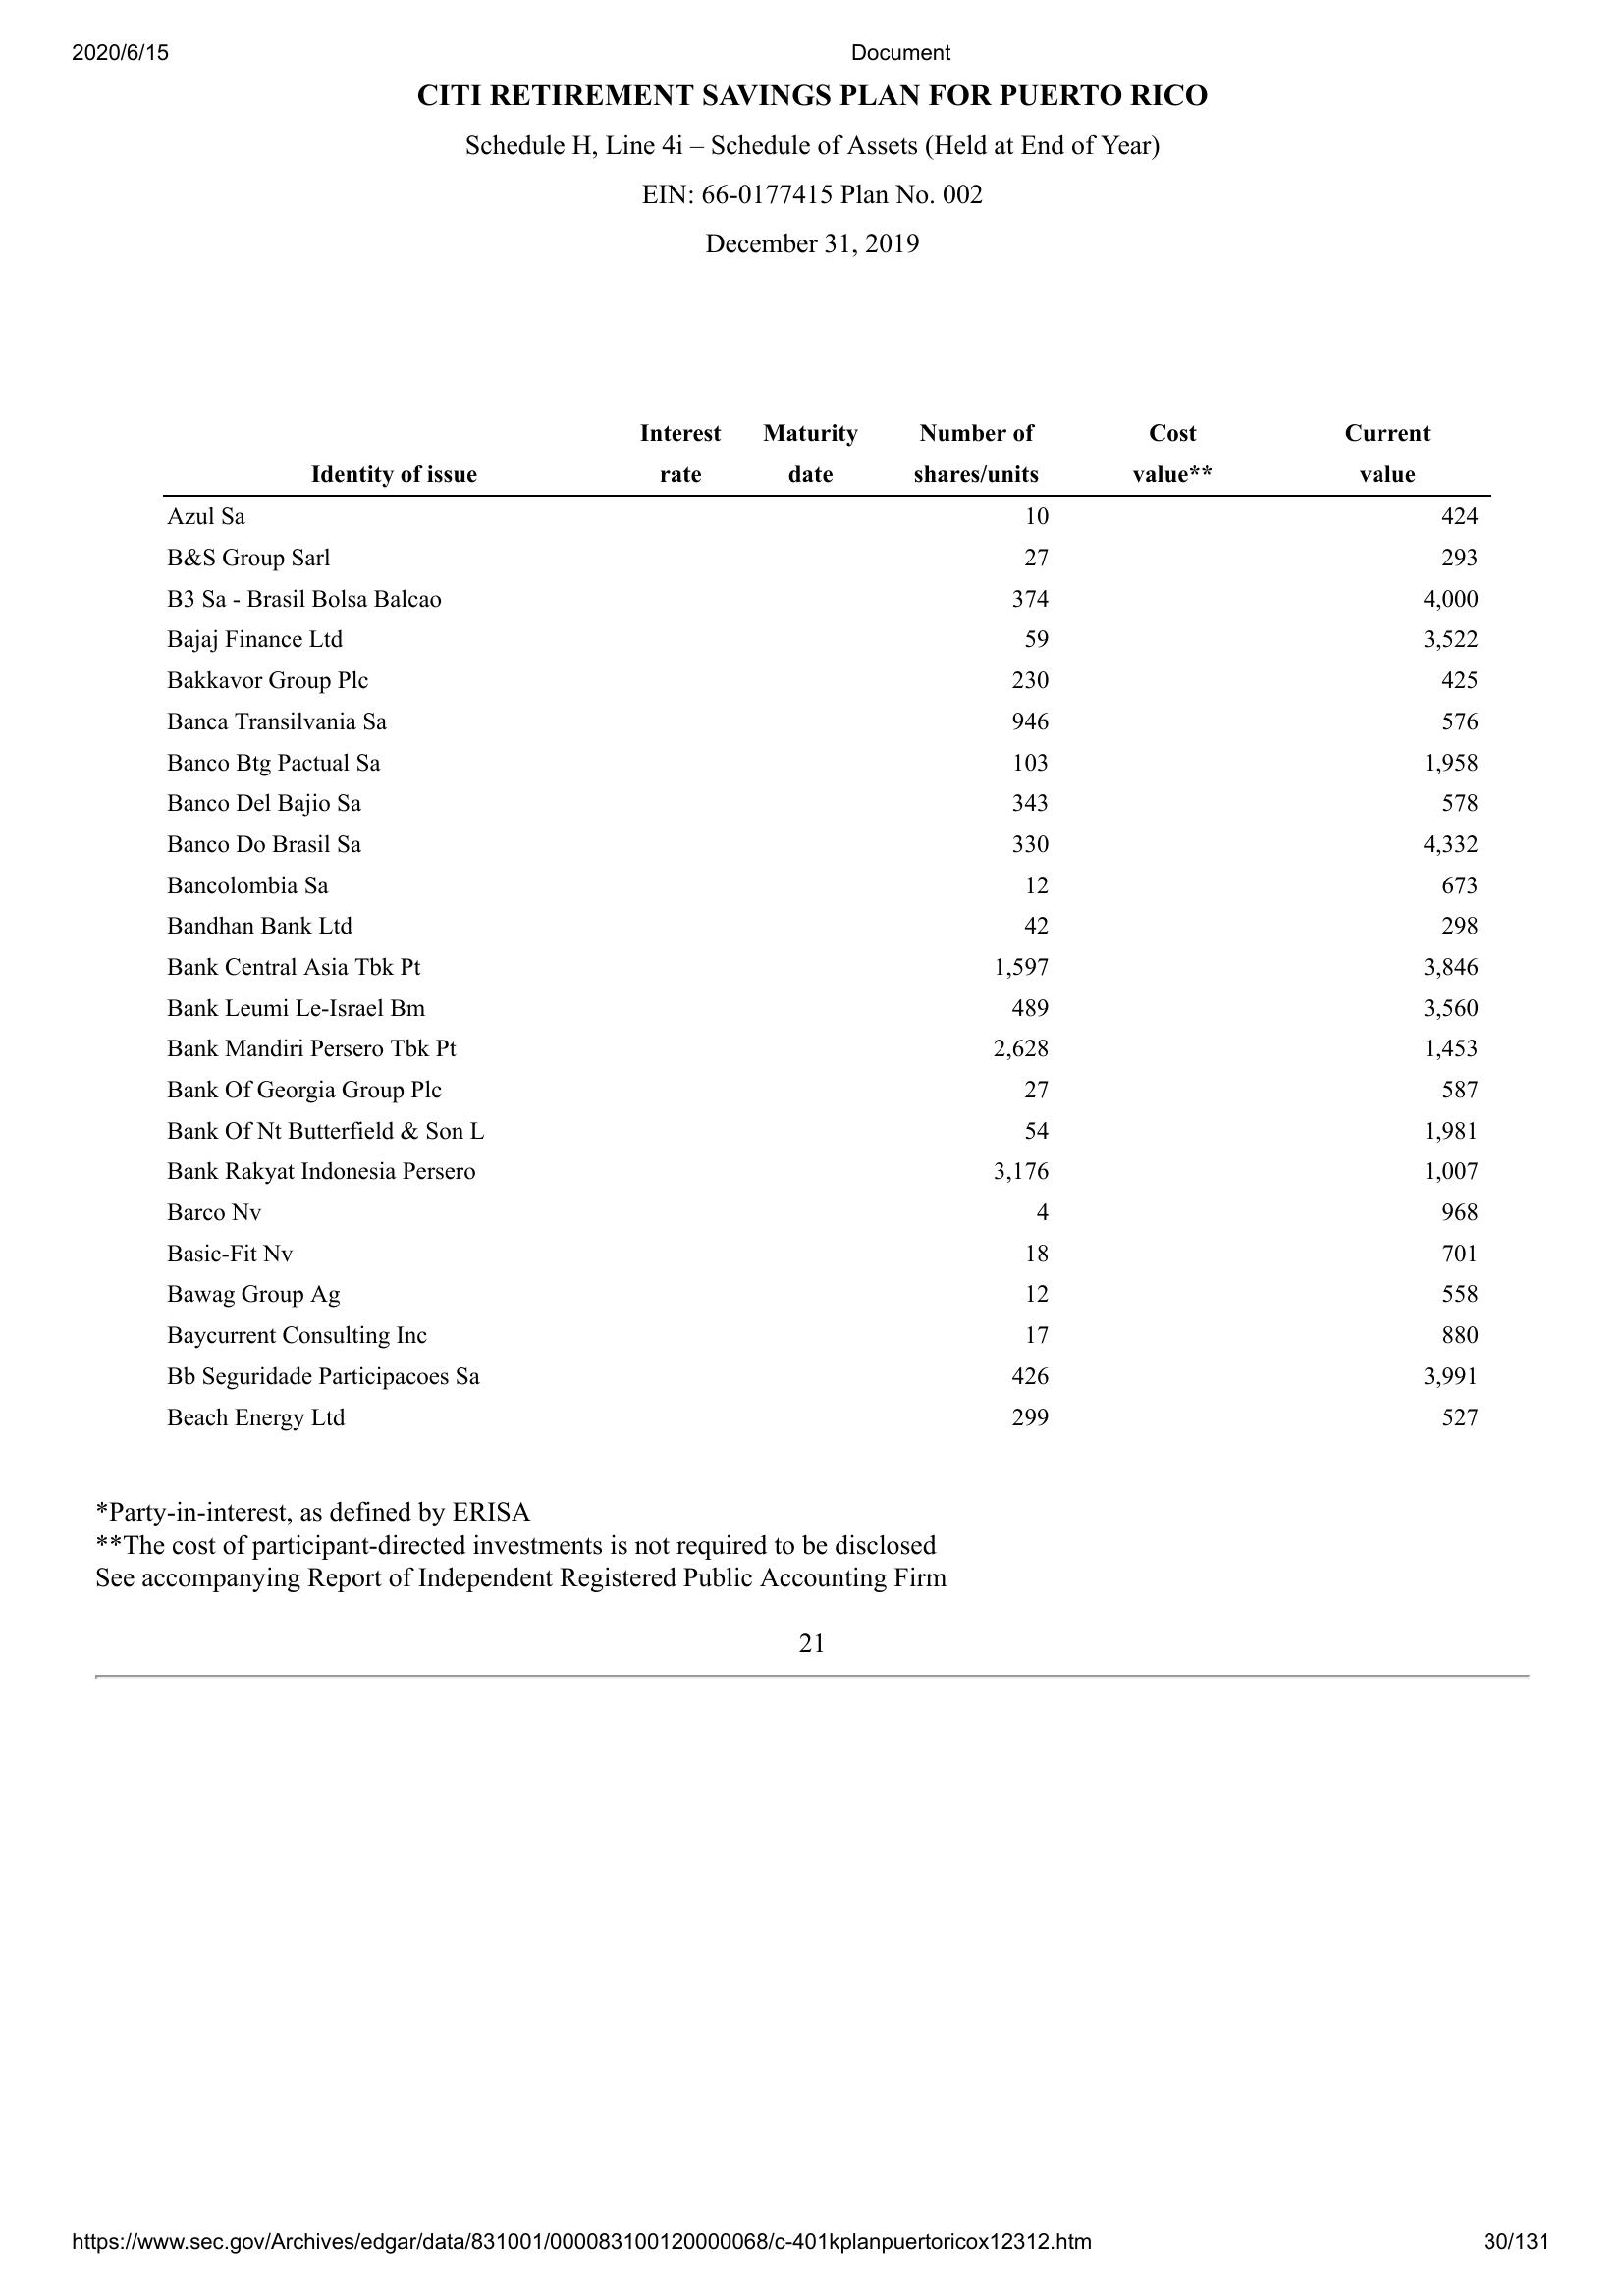table: (151, 416, 1484, 1438)
